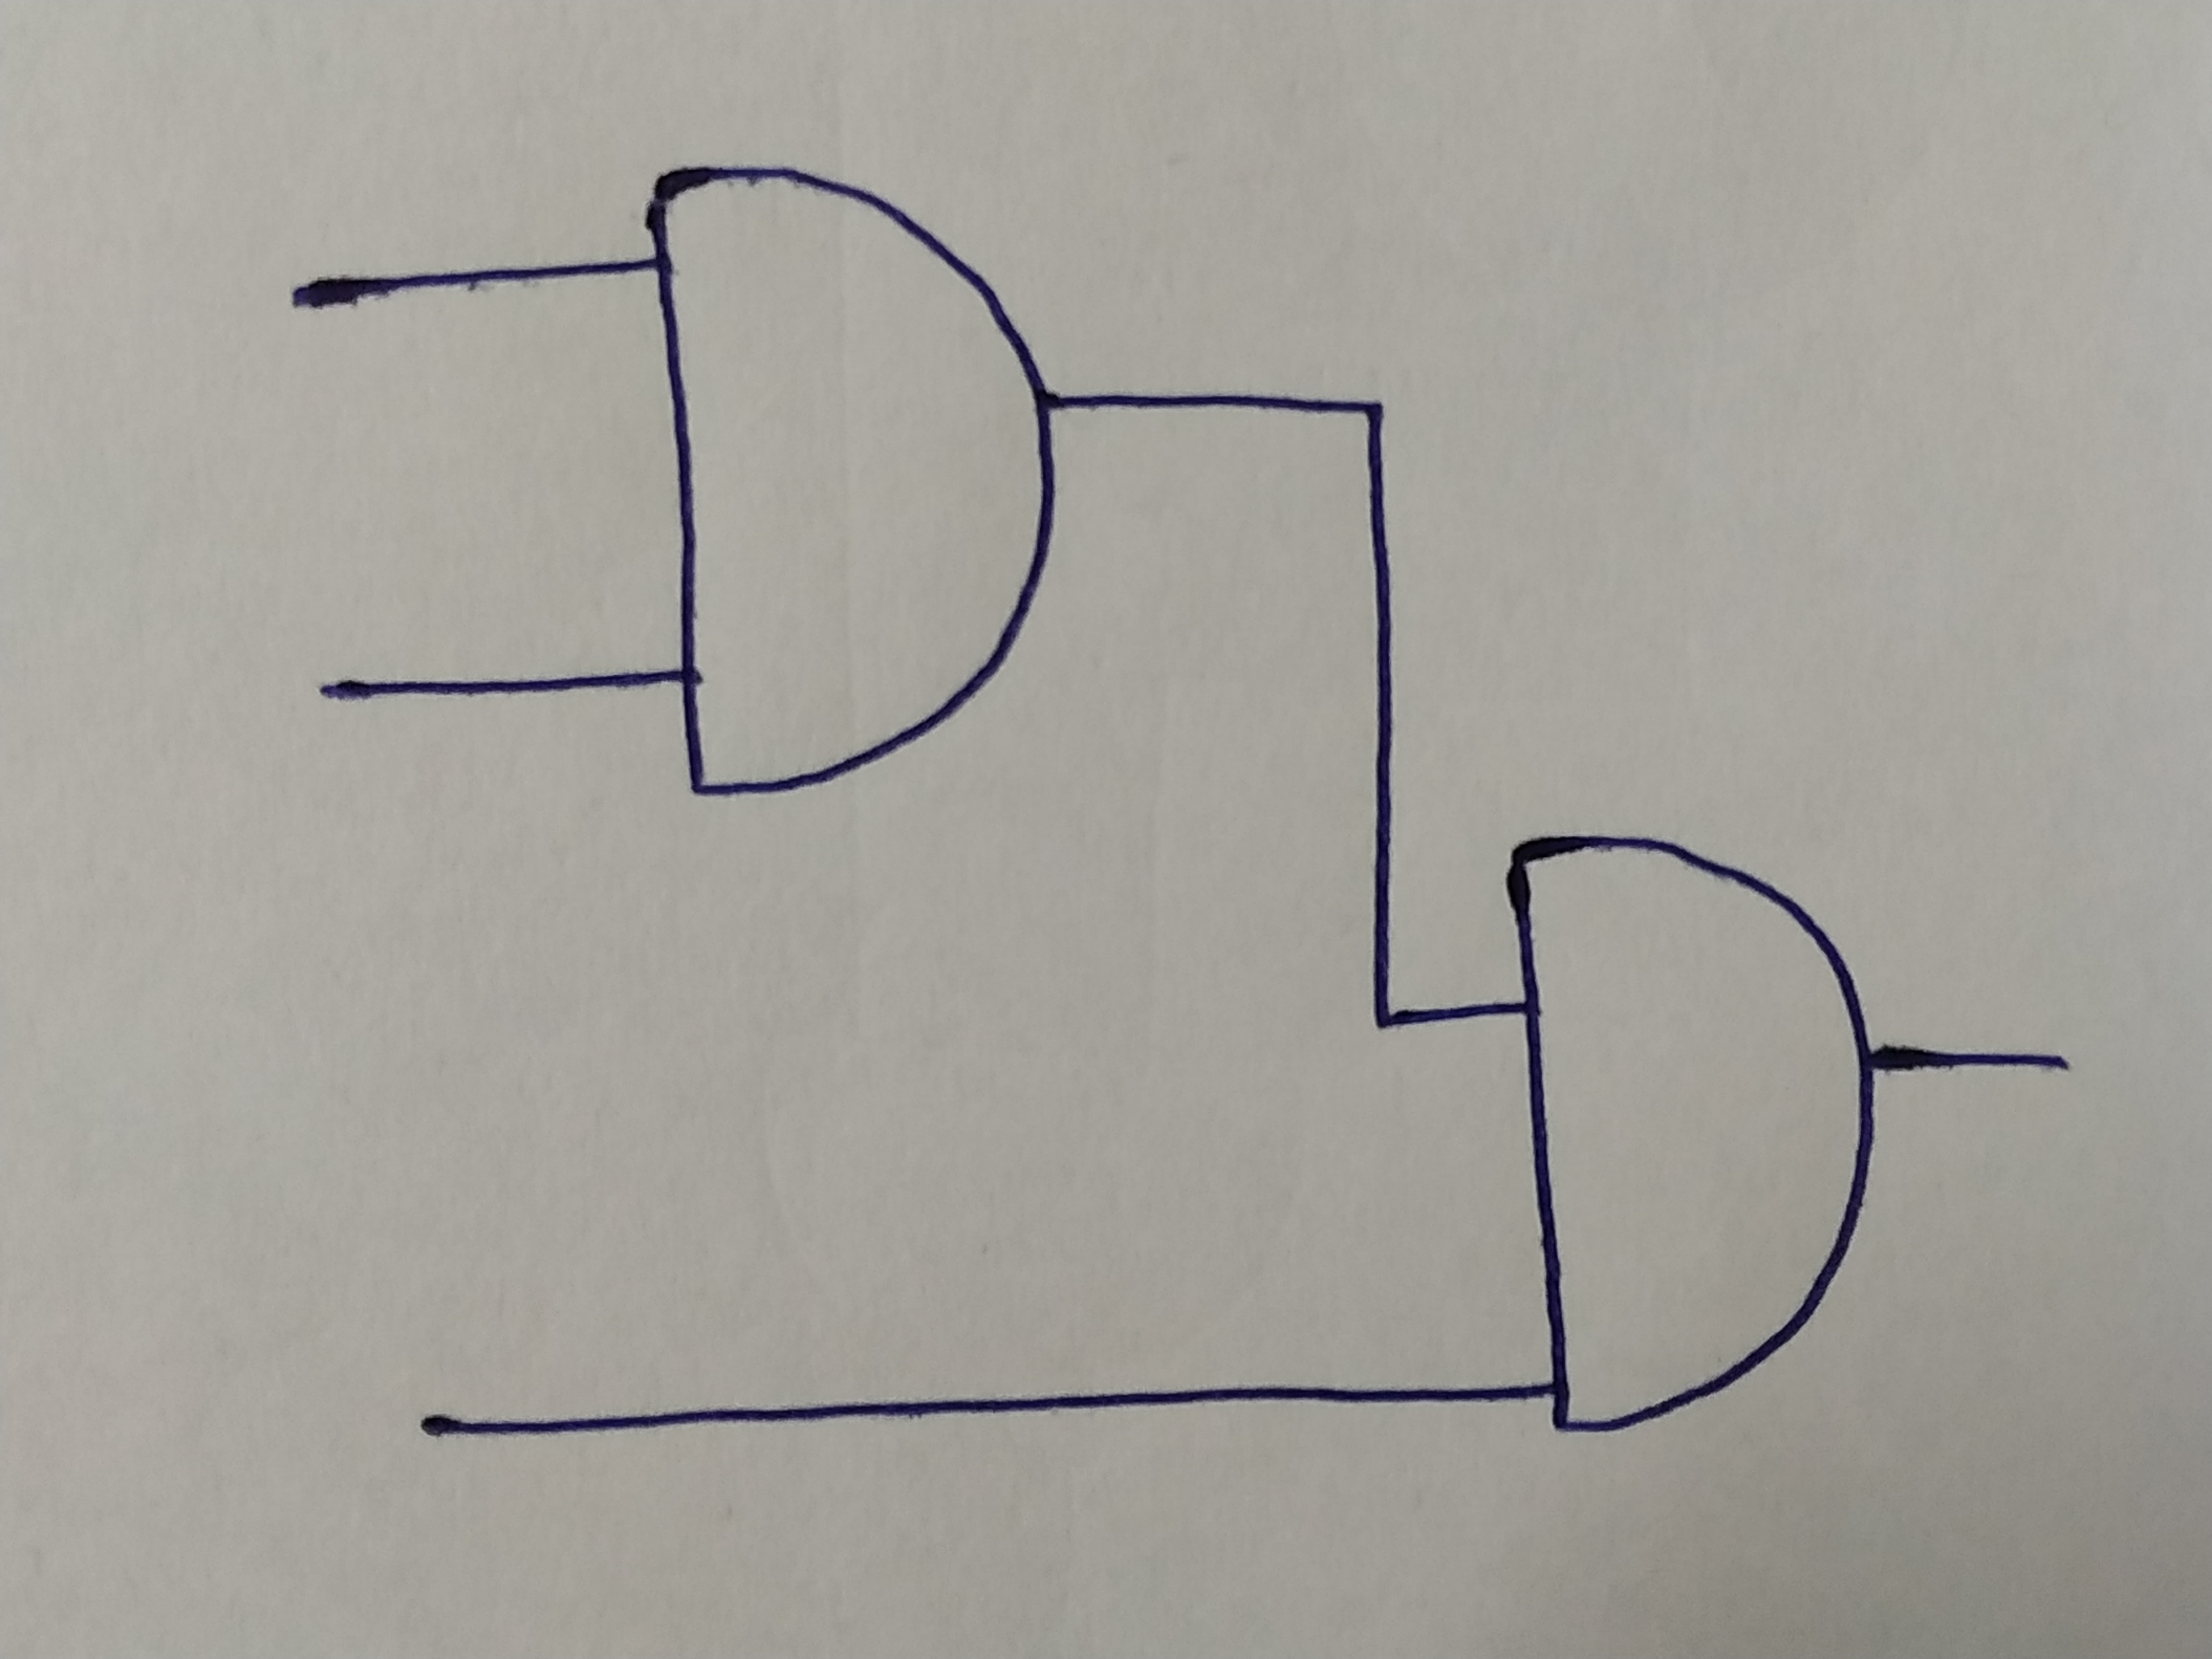and: (648, 164, 1057, 795), (1514, 836, 1871, 1434)
